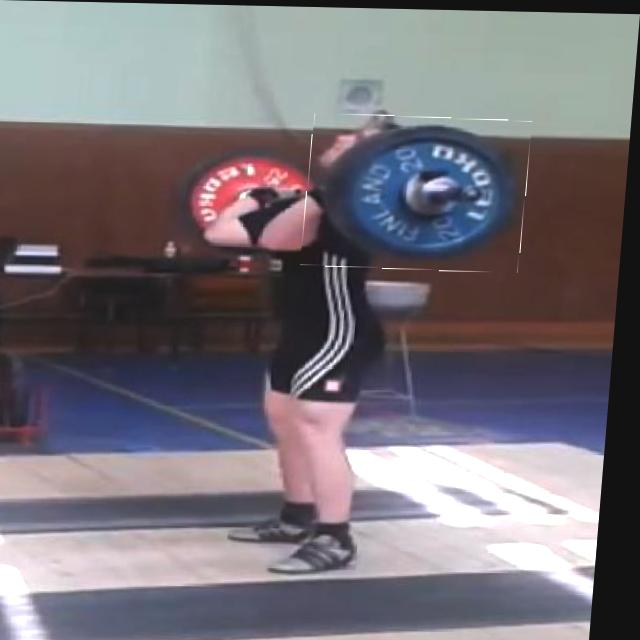barbell: (306, 114, 534, 271)
